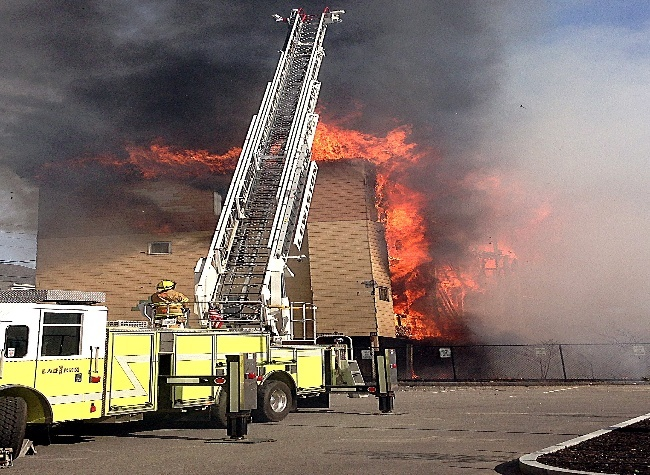Fire: (383, 192, 430, 278), (319, 125, 410, 165)
Smoke: (99, 51, 245, 144), (352, 23, 473, 123), (8, 105, 101, 182)
